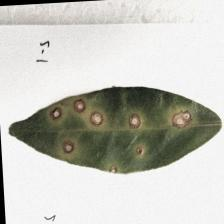canker: (48, 96, 203, 162)
